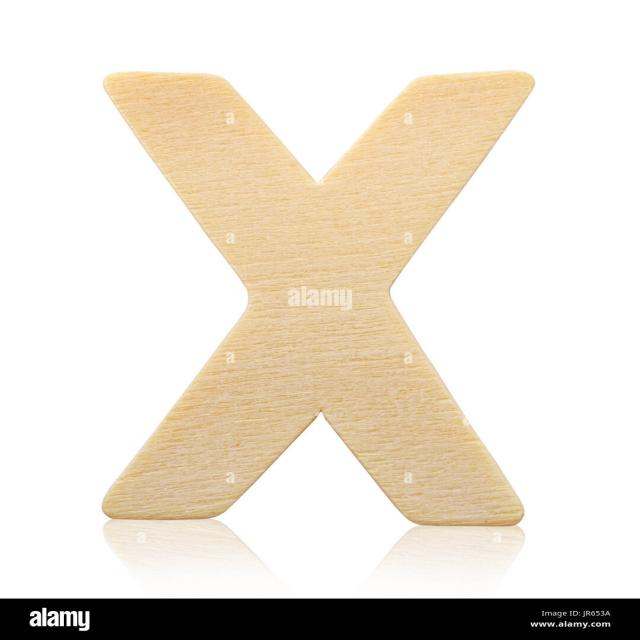X: (45, 44, 571, 542)
